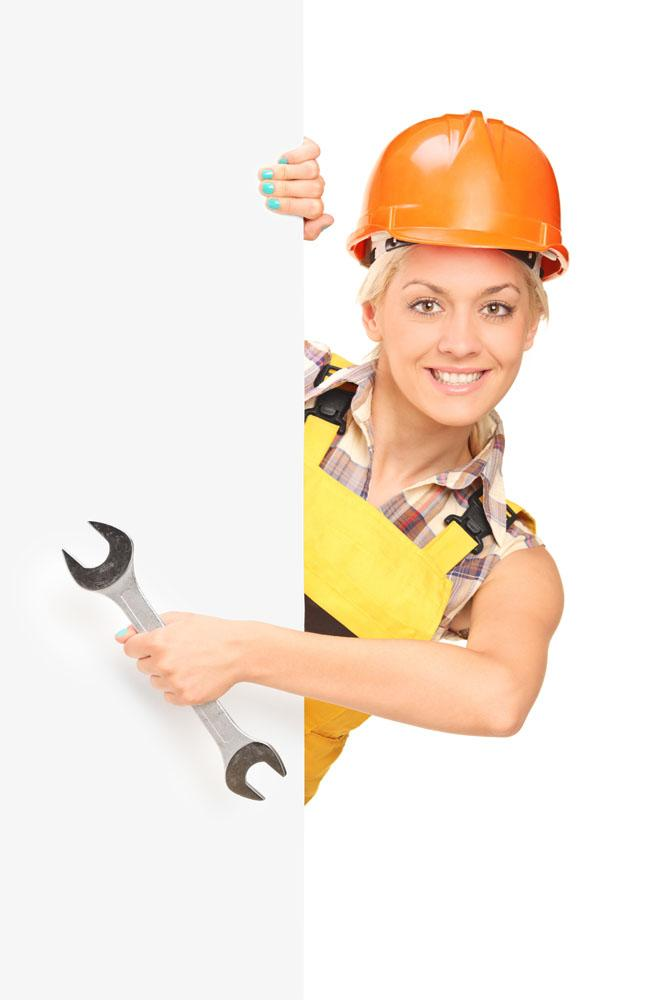helmet: (344, 115, 574, 270)
